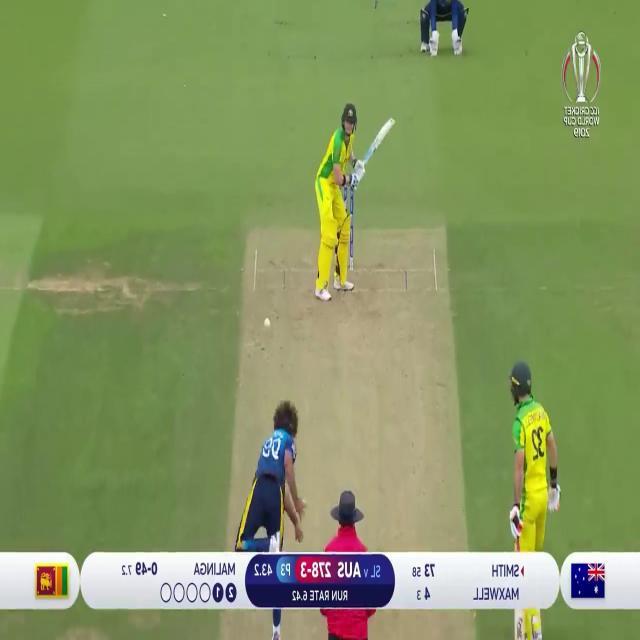ball: (261, 312, 273, 332)
